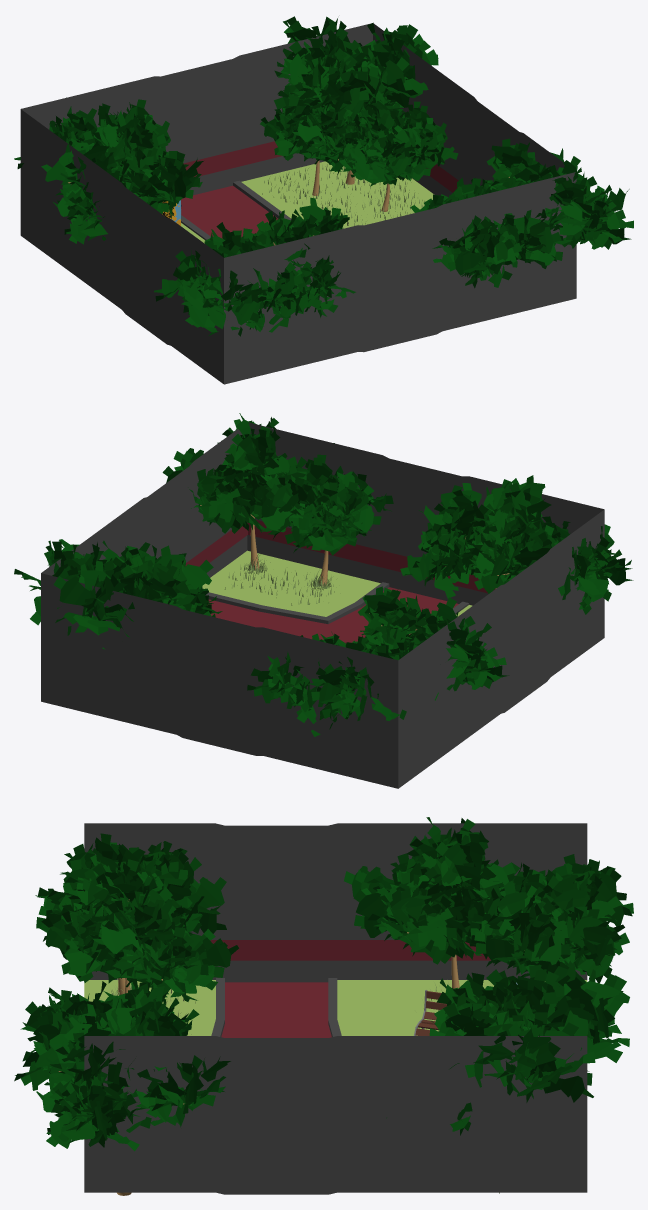
File: Park.fbx
The picture shows the model from 3 angles, top to bottom: view 1: azimuth 30°, elevation 25°; view 2: azimuth 150°, elevation 25°; view 3: azimuth 270°, elevation 25°; orthographic projection. The views are drawn at different scales.
Visible parts, largest first — view 1: wall, Cube.003, Plane, Tree Branch.002, Tree Branch.006, Tree Branch.007, Tree Branch.008, Tree Branch.004, Tree Branch.005, Tree Branch.003, Tree Branch.001, policeLine; view 2: wall, Plane, Tree Branch.005, Cube.003, Tree Branch.008, Tree Branch.007, Tree Branch.002, Tree Branch.001, Tree Branch.006, policeLine; view 3: wall, Tree Branch.005, Cube.003, Tree Branch.007, Tree Branch.002, Plane, Tree Branch.001, Tree Branch.008, policeLine, Tree Branch.006, Cube.
Boxes of the visible parts, x1,y1,x2,y2 form: wall: [20, 23, 576, 384]; Cube.003: [274, 16, 438, 184]; Plane: [121, 161, 442, 351]; Tree Branch.002: [41, 102, 203, 244]; Tree Branch.006: [154, 232, 321, 336]; Tree Branch.007: [484, 138, 633, 249]; Tree Branch.008: [410, 177, 562, 288]; Tree Branch.004: [325, 101, 458, 211]; Tree Branch.005: [205, 197, 355, 317]; Tree Branch.003: [260, 63, 369, 195]; Tree Branch.001: [14, 97, 184, 168]; policeLine: [183, 141, 458, 192]; wall: [41, 422, 604, 788]; Plane: [176, 550, 547, 755]; Tree Branch.005: [400, 475, 551, 598]; Cube.003: [14, 539, 213, 649]; Tree Branch.008: [253, 443, 393, 585]; Tree Branch.007: [162, 413, 306, 570]; Tree Branch.002: [358, 586, 509, 700]; Tree Branch.001: [247, 631, 406, 736]; Tree Branch.006: [462, 516, 633, 614]; policeLine: [185, 520, 494, 593]; wall: [84, 823, 587, 1194]; Tree Branch.005: [39, 833, 238, 1001]; Cube.003: [429, 965, 629, 1102]; Tree Branch.007: [34, 981, 230, 1195]; Tree Branch.002: [344, 817, 527, 988]; Plane: [84, 978, 587, 1194]; Tree Branch.001: [472, 854, 633, 986]; Tree Branch.008: [14, 978, 199, 1090]; policeLine: [210, 940, 490, 960]; Tree Branch.006: [35, 841, 188, 994]; Cube: [414, 990, 446, 1035].
Size of the model in its own units: 1333 by 457 by 1282.
